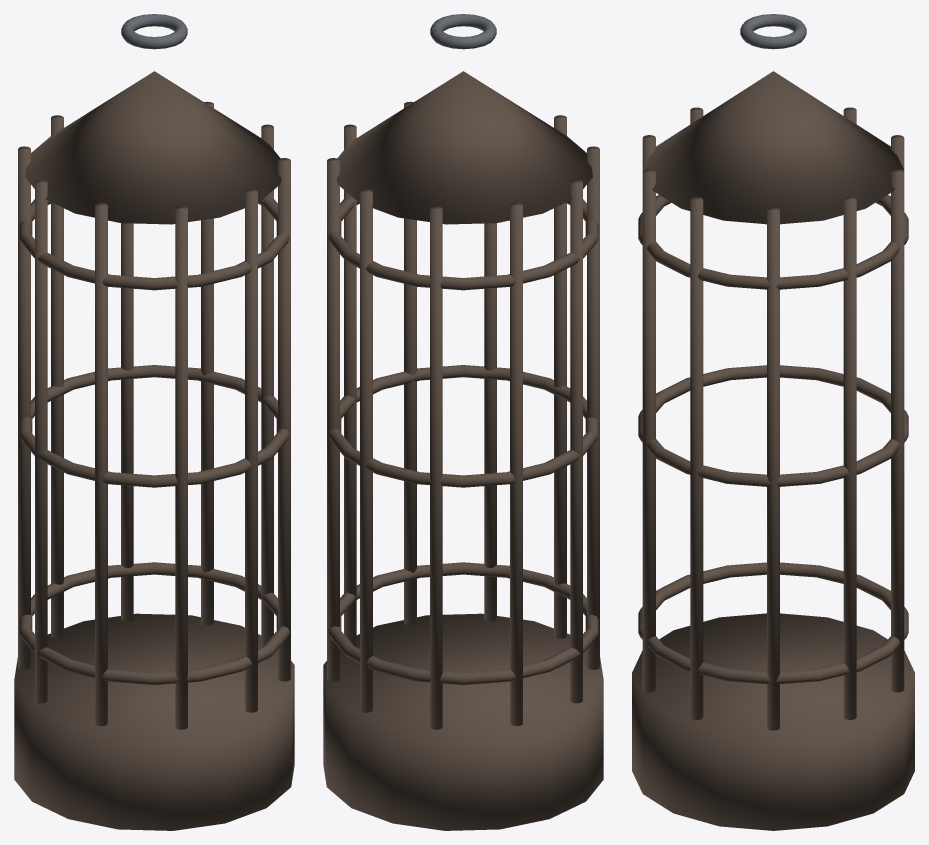
Rendered from prop_tori_kago.glb.
3 renders of one model, left to right at view 1: azimuth 30°, elevation 25°; view 2: azimuth 150°, elevation 25°; view 3: azimuth 270°, elevation 25°, orthographic.
Parts seen in each view (by area): view 1: tori_kago; view 2: tori_kago; view 3: tori_kago.
Part boxes in pixels (x1,y1,x2,y2): tori_kago: (14, 14, 294, 830); tori_kago: (323, 14, 603, 830); tori_kago: (632, 14, 914, 830).
Size of the model in its own units: 0.52 by 1.51 by 0.52.
